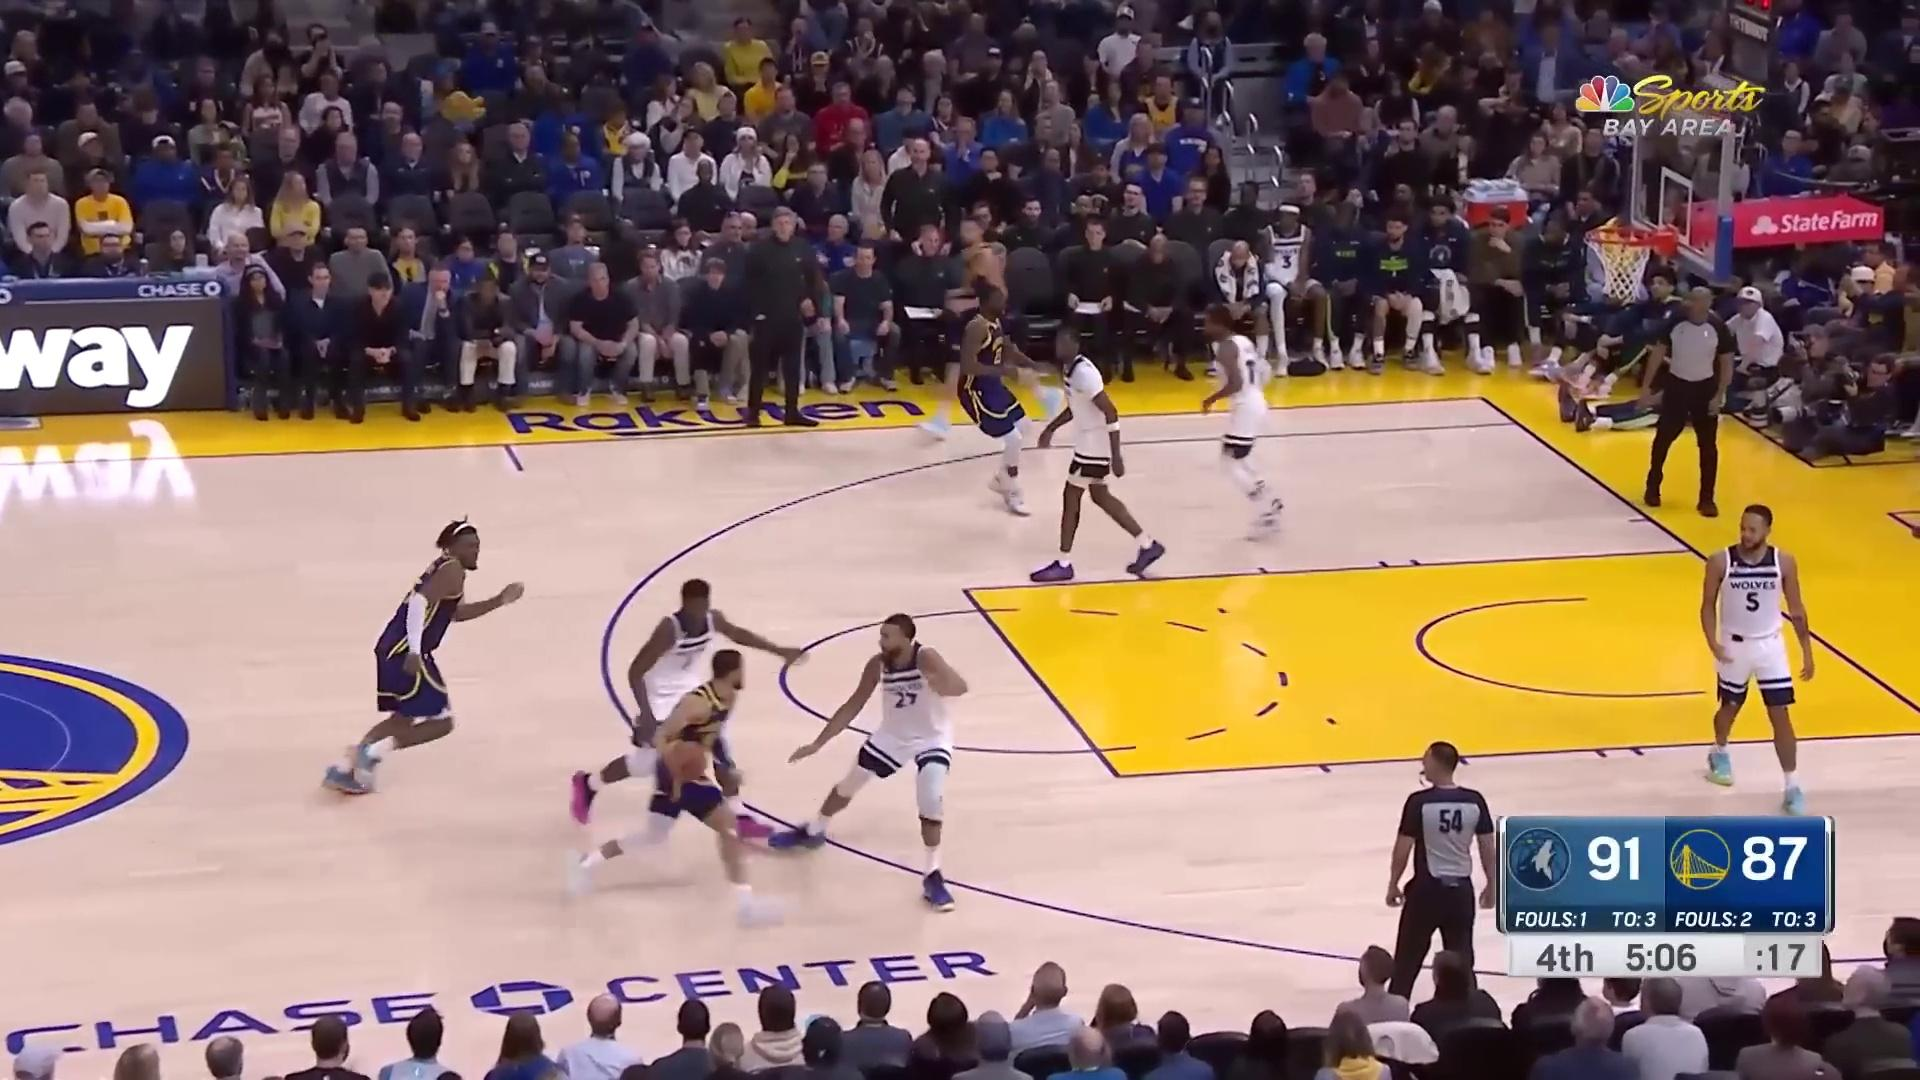Ball: (1581, 91, 1741, 321)
Player: (764, 609, 979, 911), (564, 653, 799, 928), (569, 576, 804, 836), (321, 513, 526, 799), (1701, 501, 1823, 813), (1036, 333, 1174, 588), (1191, 309, 1294, 536), (954, 283, 1038, 519)
Rim: (656, 738, 713, 786)
